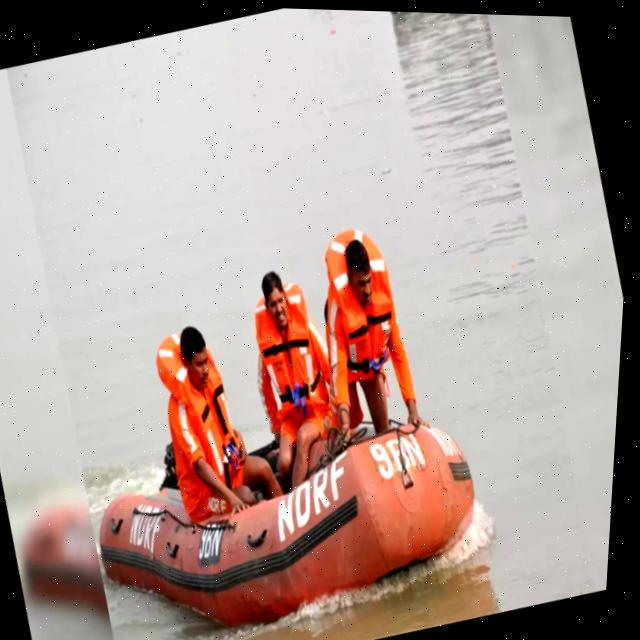rescuer: (128, 297, 302, 543), (285, 211, 446, 468), (221, 251, 362, 503)
